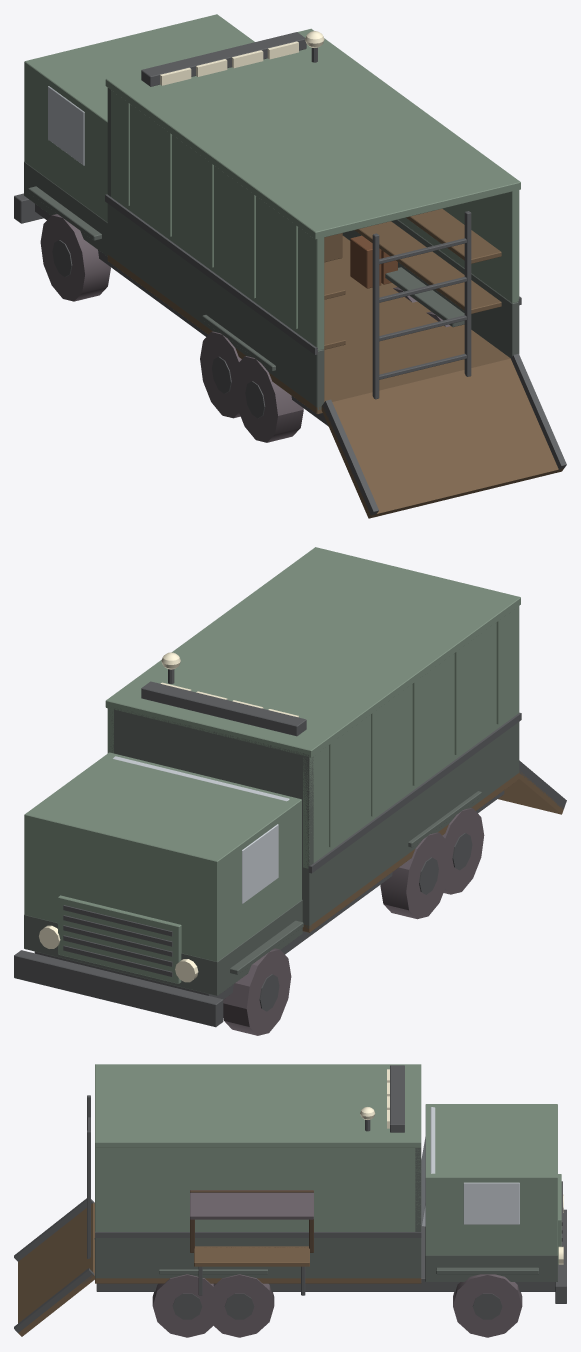
Rendered from Vehicle.fbx.
3 renders of one model, top to bottom at view 1: azimuth 30°, elevation 25°; view 2: azimuth 150°, elevation 25°; view 3: azimuth 270°, elevation 25°, orthographic. The views are drawn at different scales.
Visible parts, largest first — view 1: Vehicle; view 2: Vehicle; view 3: Vehicle.
Boxes of the visible parts, bbox=[...] form: Vehicle: bbox=[14, 14, 566, 518]; Vehicle: bbox=[14, 547, 566, 1035]; Vehicle: bbox=[14, 1064, 566, 1337].
Bounding box in the file's own units: 282 × 294 × 669.
